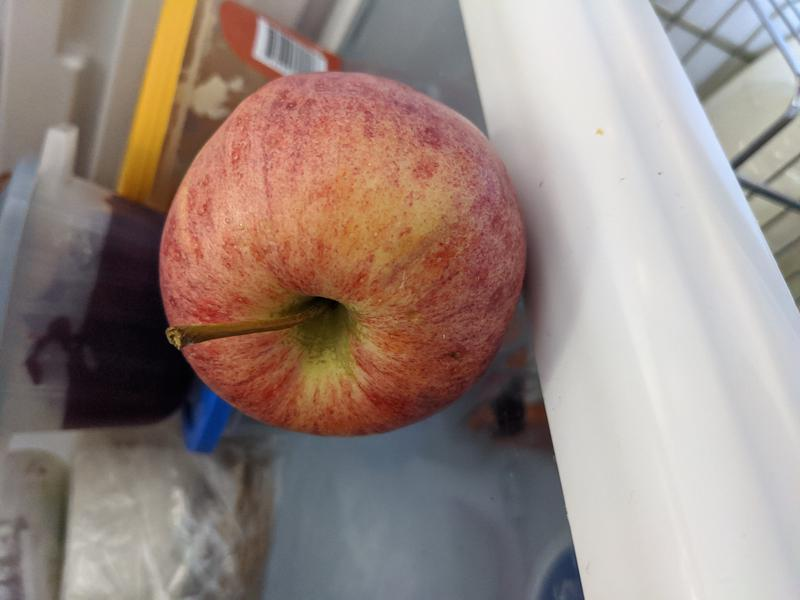red apple: (157, 70, 527, 438)
